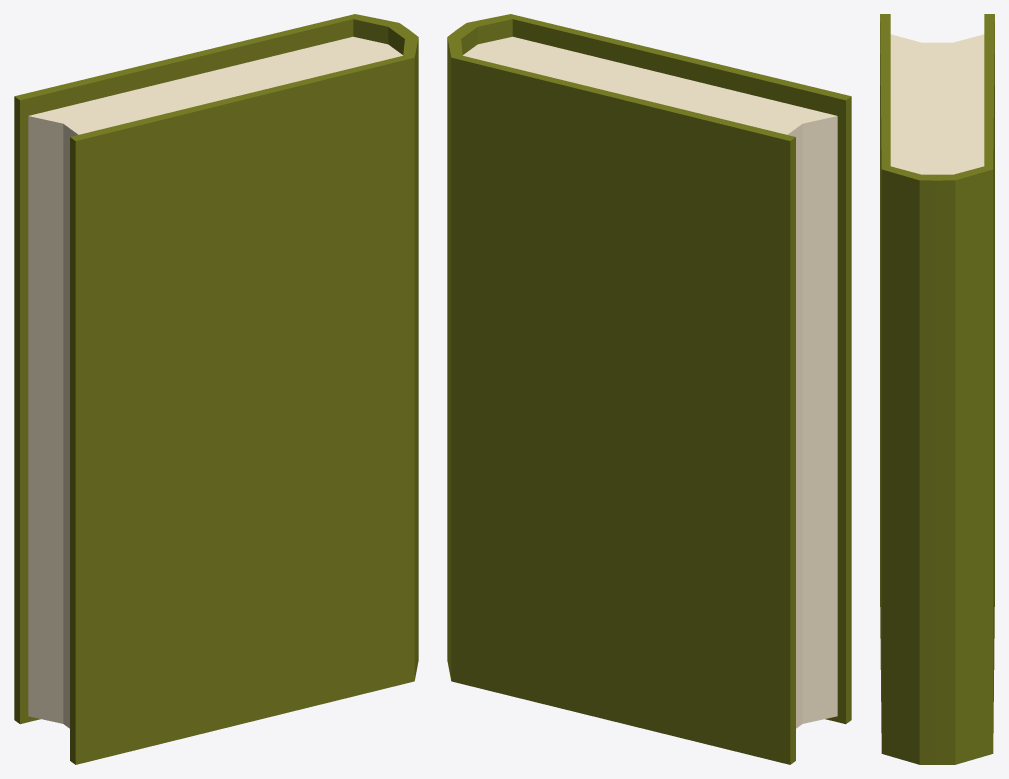
File: Book_11.fbx
3 views of the same model, side by side, from view 1: azimuth 30°, elevation 25°; view 2: azimuth 150°, elevation 25°; view 3: azimuth 270°, elevation 25° (orthographic). The views are drawn at different scales.
Visible parts, largest first — view 1: Plane.224; view 2: Plane.224; view 3: Plane.224.
Part boxes in pixels (x1,y1,x2,y2): Plane.224: (14,14,418,764); Plane.224: (447,14,851,764); Plane.224: (880,14,994,764).
Size of the model in its own units: 0.3167 by 0.0922 by 0.5182.
